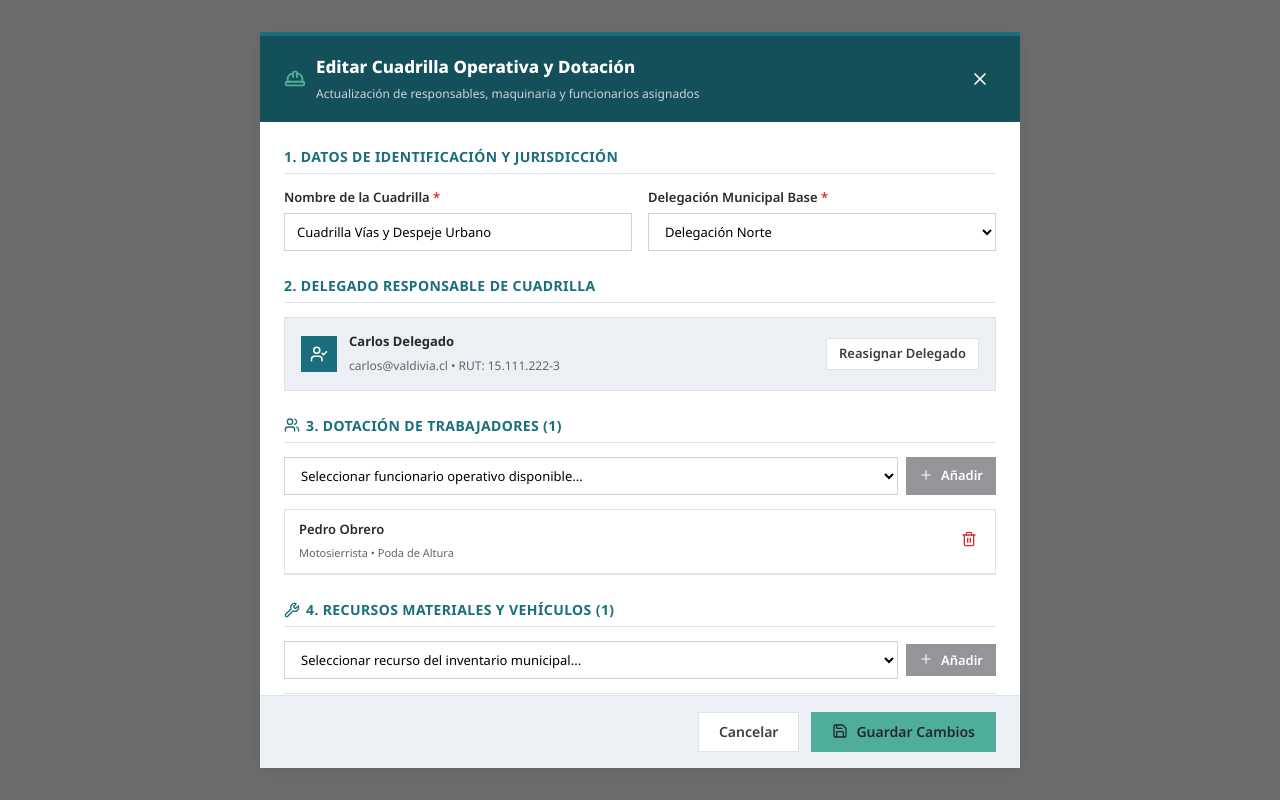
Scenario: CuadrillaEditarModal (H81) › BUG-H81-WEB-03: ante error 409 CUADRILLA_EN_MISION concurrente, debe bloquear el formulario y deshabilitar guardar
Expected: the field showing "Cuadrilla Vías y Despeje Urbano" is shown, x1=284 y1=213 x2=632 y2=251
What coordinates should you click on to do the following:
click the button "Guardar Cambios"
I would click on:
 (904, 732)
Its box is x1=811 y1=712 x2=996 y2=752.
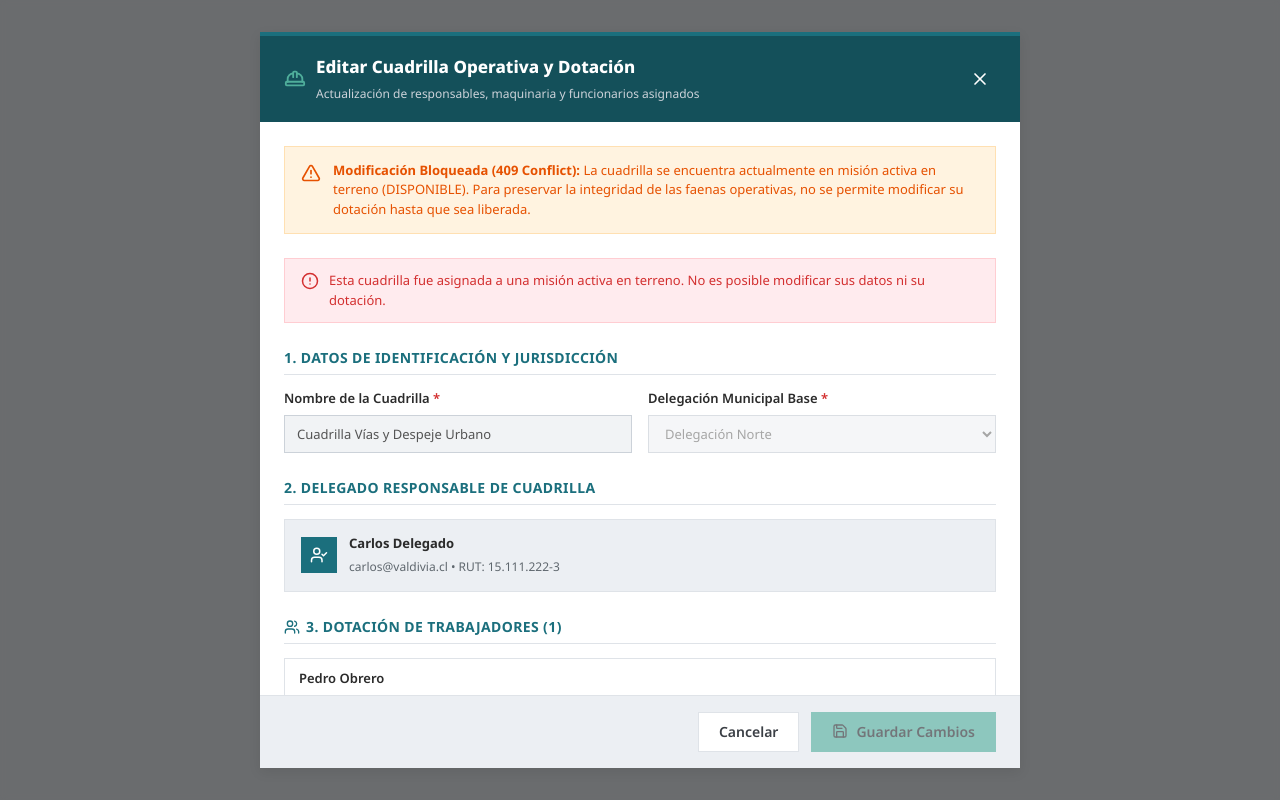
Result: the button "Guardar Cambios" is disabled at x1=811 y1=712 x2=996 y2=752
Result: the text "Modificación Bloqueada (409 Conflict):" is shown at x1=333 y1=160 x2=580 y2=178
